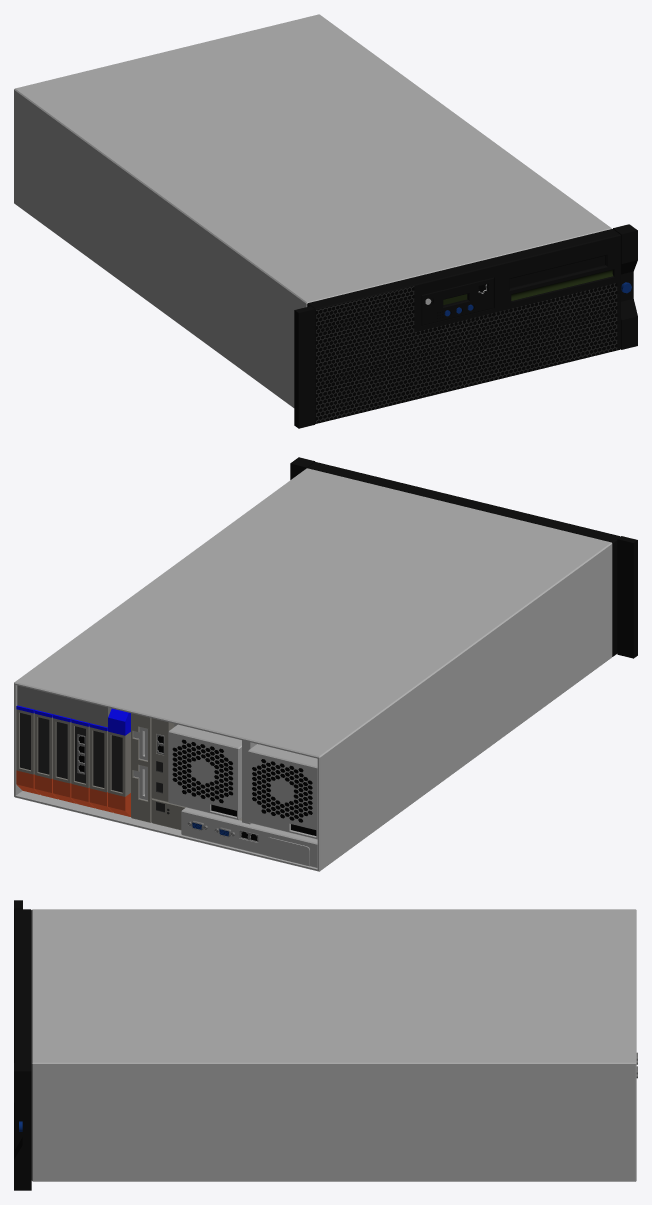
The model's file is IBM_P570.fbx.
3 renders of one model, top to bottom at view 1: azimuth 30°, elevation 25°; view 2: azimuth 150°, elevation 25°; view 3: azimuth 270°, elevation 25°, orthographic. The views are drawn at different scales.
Parts seen in each view (by area): view 1: IBM_P570; view 2: IBM_P570; view 3: IBM_P570.
Boxes of the visible parts, <box> form: IBM_P570: <box>14,14,637,428</box>; IBM_P570: <box>14,457,637,871</box>; IBM_P570: <box>14,900,637,1190</box>.
Size of the model in its own units: 535 by 174 by 826.
Materials: 14 (2 with a texture image).
